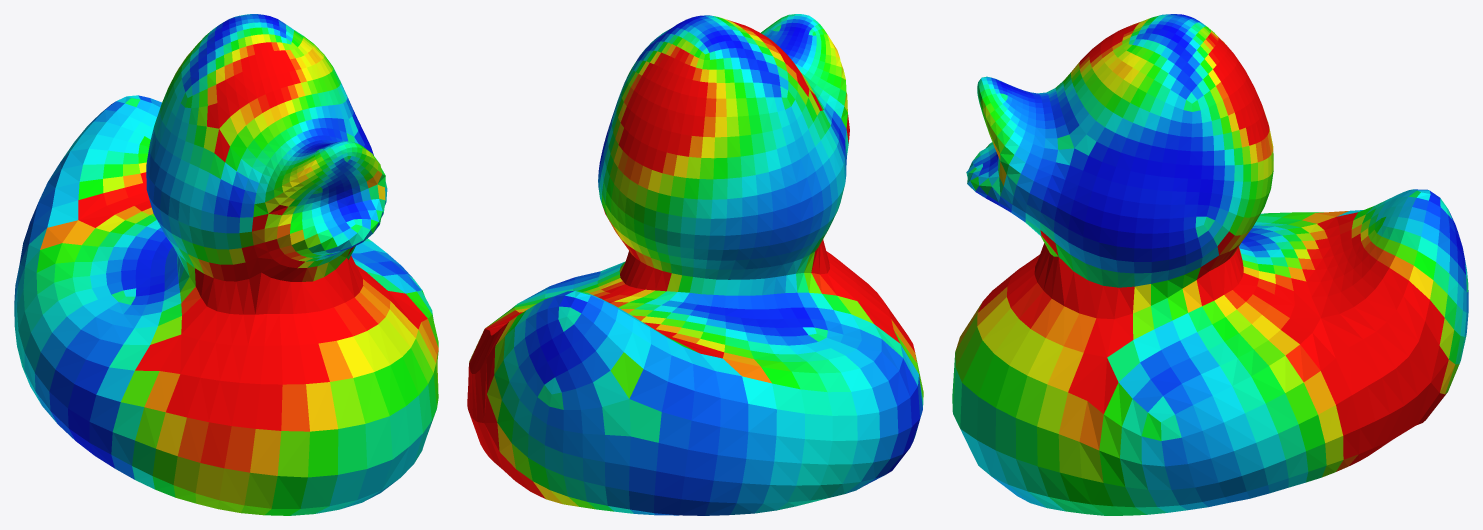
Rendered from duck_quad6_no_opt_quality.obj.
3 renders of one model, left to right at view 1: azimuth 30°, elevation 25°; view 2: azimuth 150°, elevation 25°; view 3: azimuth 270°, elevation 25°, orthographic. The views are drawn at different scales.
Size of the model in its own units: 70.43 by 79.31 by 82.29.
